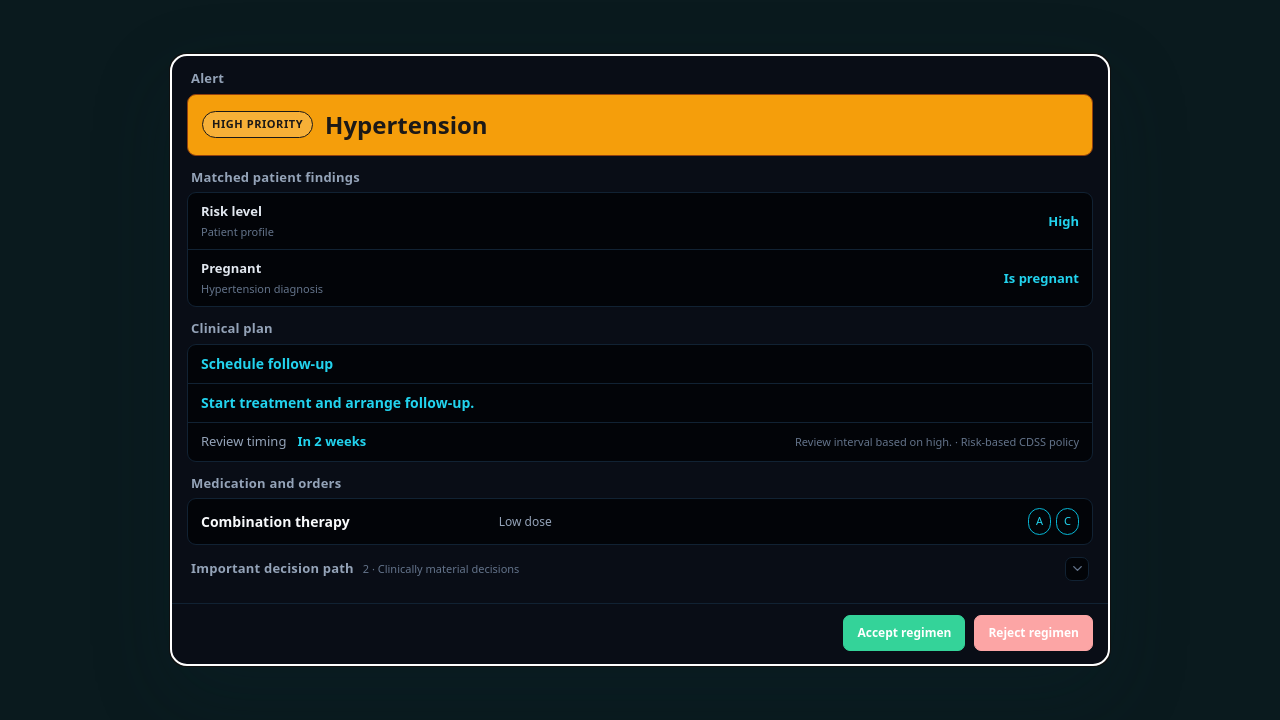
Test: TraversalResultModal › renders A/C once with dose in the middle and reveals references only from the cyan pills
Expected: the text "Combination therapy" is shown, [201,512,350,531]
Expected: the text "Low dose" is shown, [499,513,552,530]
Hover over the element with class "cds-order-row": (275, 522) [201,508,1079,535]
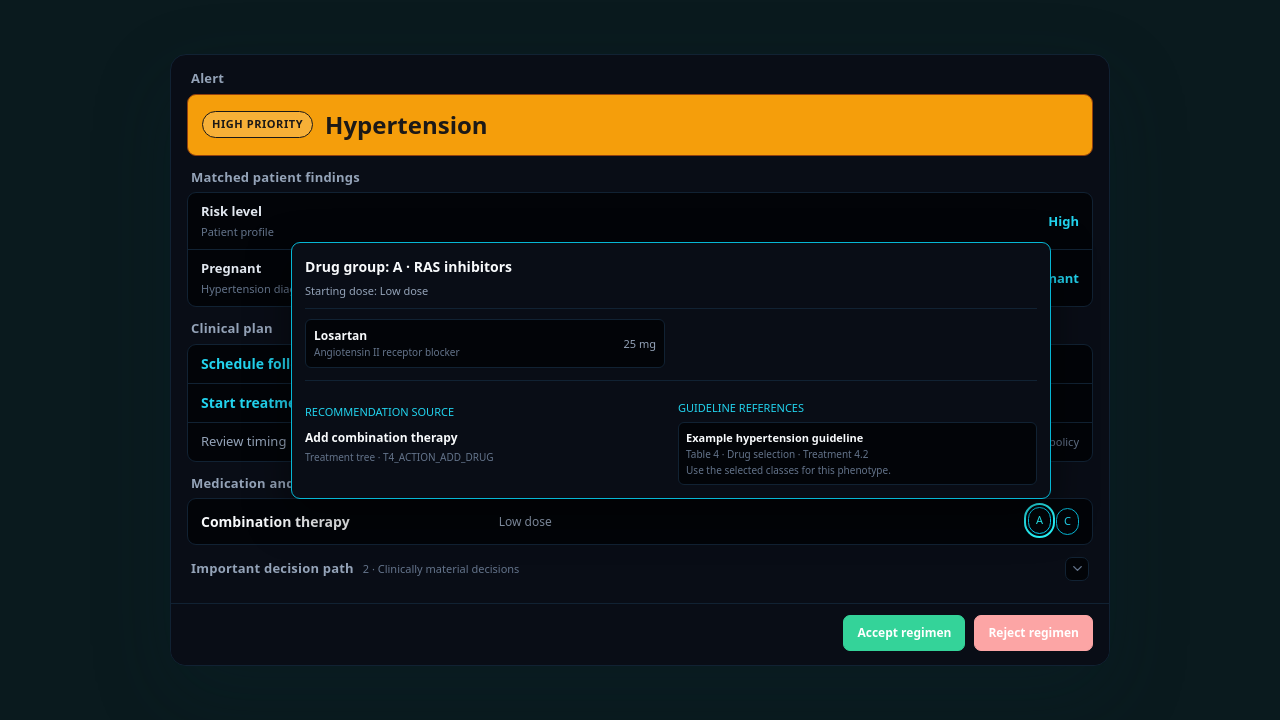
Expected: the tooltip shows "A · RAS inhibitors", [393,257,512,276]
Expected: the tooltip shows "Low dose", [380,283,428,298]
Expected: the tooltip shows "Losartan", [314,328,367,344]
